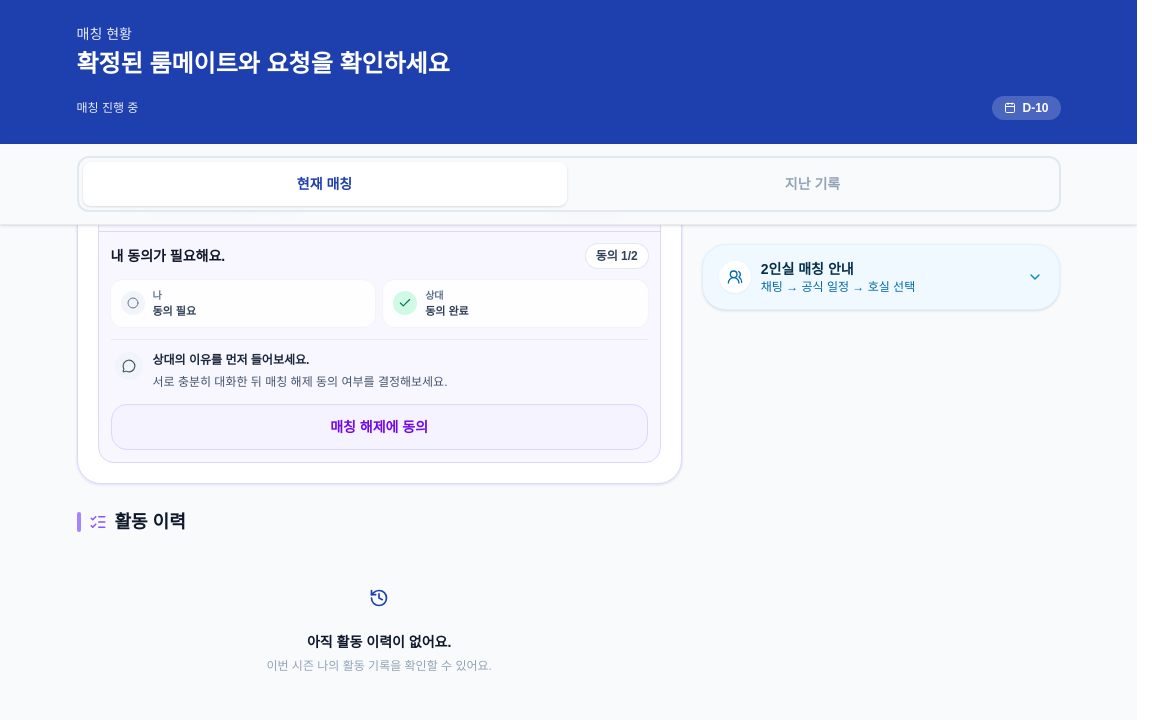
Test: MatchingTab canonical runtime › 상대 요청에 동의하면 terminal response와 overview refetch 뒤 완료 feedback으로 수렴한다
(page scrolled)
Step 1. Click the button "매칭 해제에 동의" → (379, 427), box x1=110 y1=404 x2=648 y2=450
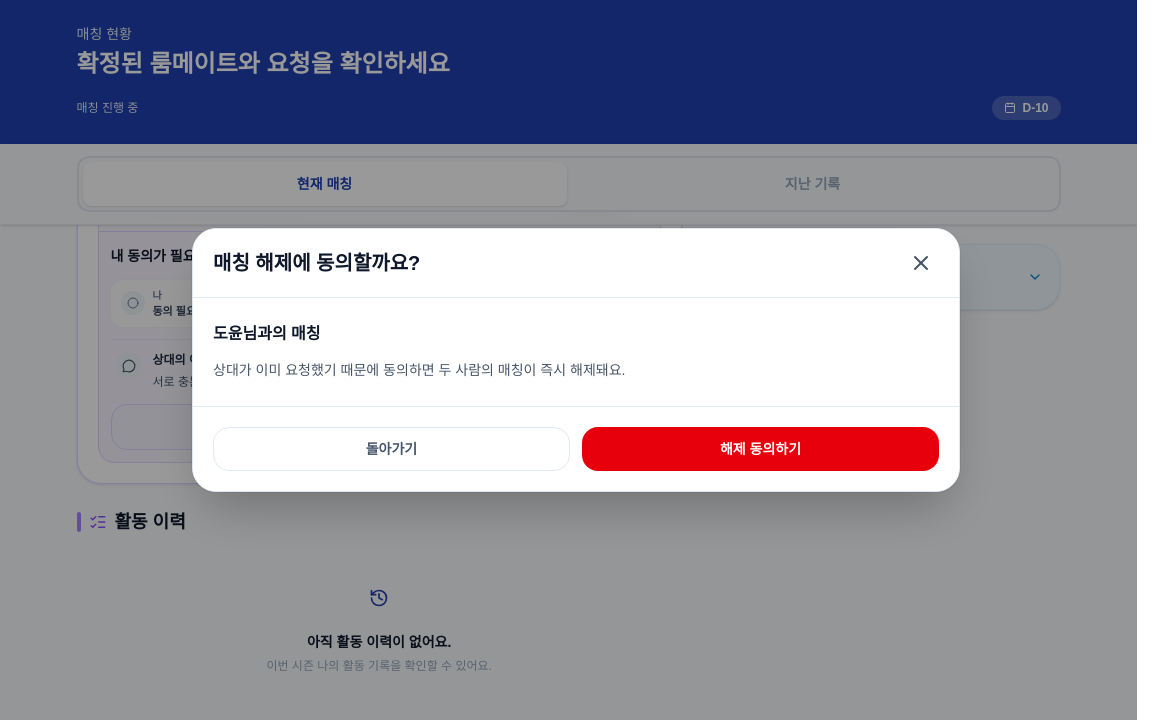
Step 2. Click the button "해제 동의하기" → (760, 449), box x1=582 y1=427 x2=939 y2=471
(page scrolled)
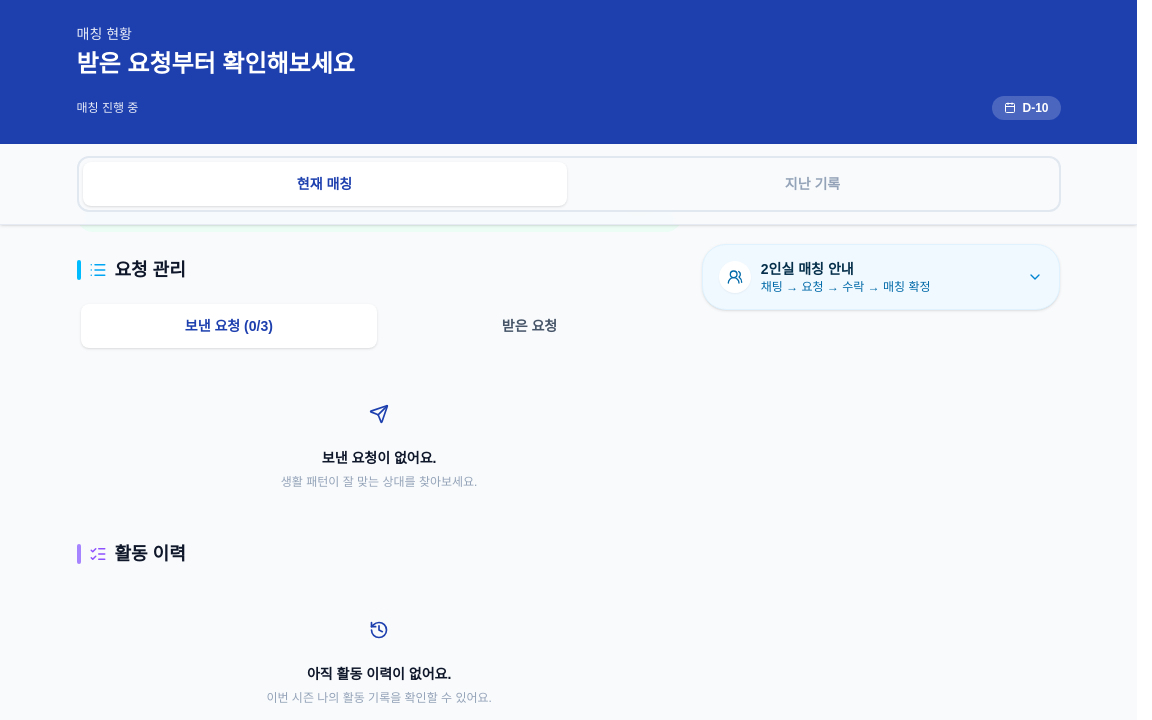
Expected: the message shows "두 사람 모두 동의해 매칭이 해제되었어요.", x1=92 y1=190 x2=335 y2=206
Expected: the heading "확정된 룸메이트" is gone
